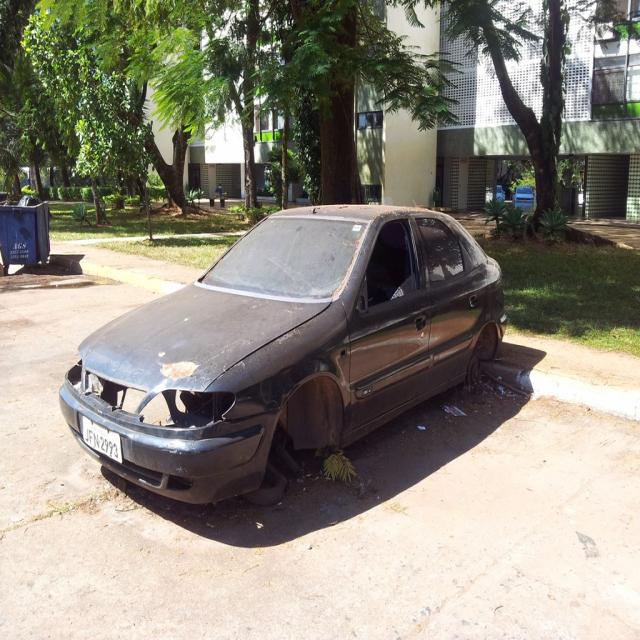car: (58, 198, 503, 507)
